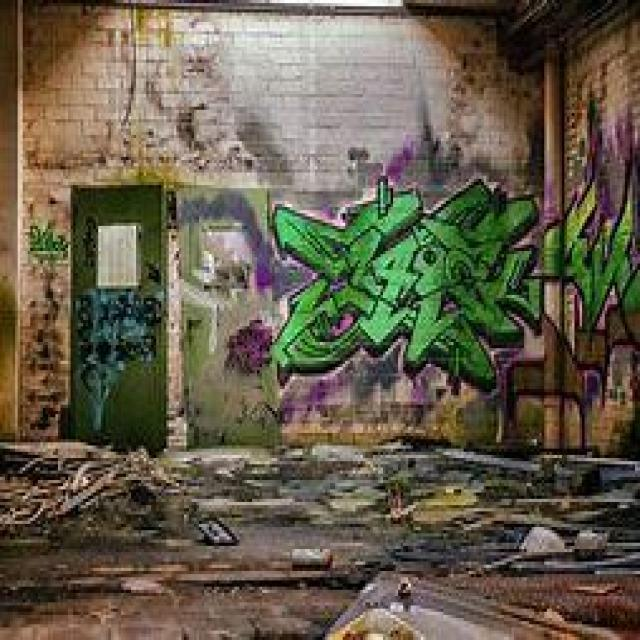nonspitting: (267, 182, 640, 382), (74, 288, 162, 398), (27, 220, 70, 264)
